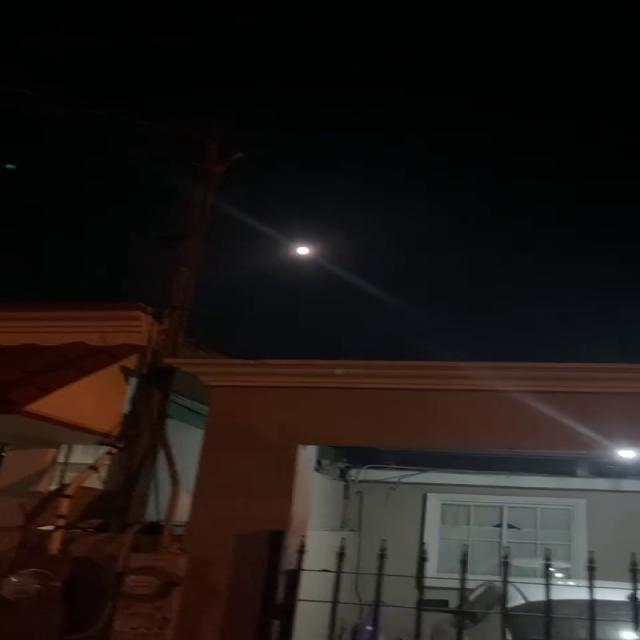moon: (286, 237, 322, 274)
